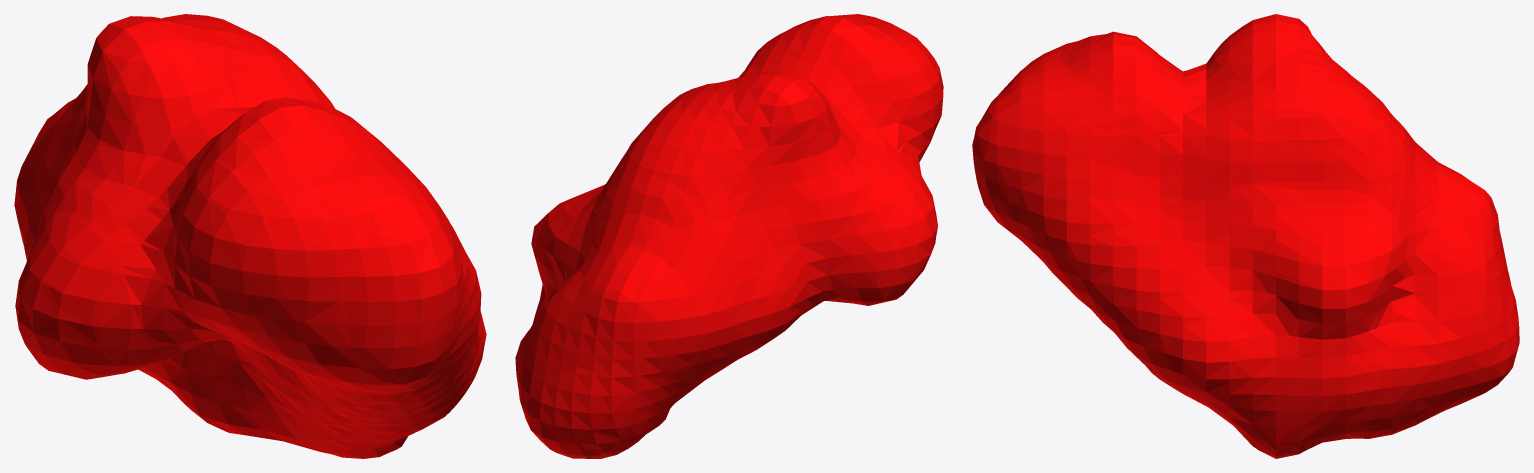
Rendered from ftsB_coarse.dae.
3 renders of one model, left to right at view 1: azimuth 30°, elevation 25°; view 2: azimuth 150°, elevation 25°; view 3: azimuth 270°, elevation 25°, orthographic. The views are drawn at different scales.
Visible parts, largest first — view 1: ftsB; view 2: ftsB; view 3: ftsB.
Part boxes in pixels (box(x1,y1,x2,y2)): ftsB: box(14, 14, 486, 458); ftsB: box(515, 14, 943, 458); ftsB: box(972, 14, 1519, 458).
Size of the model in its own units: 34.44 by 35.96 by 50.23.
